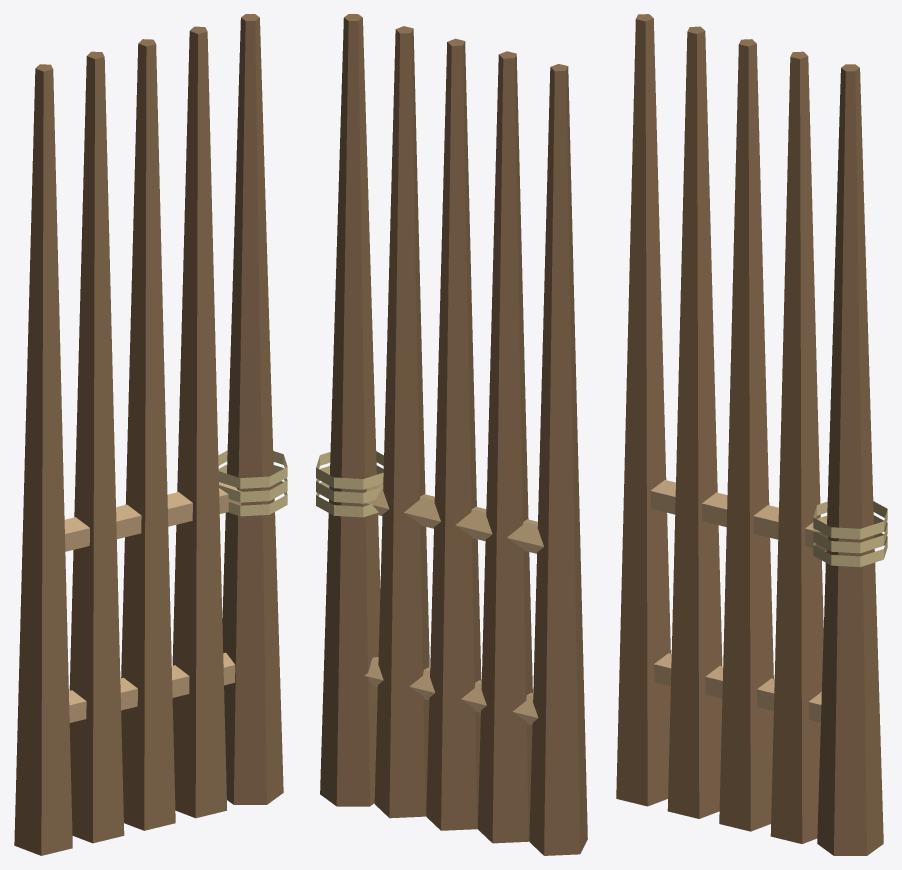
Rendered from palisade_08.glb.
3 views of the same model, side by side, from view 1: azimuth 30°, elevation 25°; view 2: azimuth 150°, elevation 25°; view 3: azimuth 330°, elevation 25° (orthographic).
Visible parts, largest first — view 1: palisade_08; view 2: palisade_08; view 3: palisade_08.
Part boxes in pixels (x1=…): palisade_08: x1=14, y1=14, x2=287, y2=855; palisade_08: x1=316, y1=14, x2=587, y2=855; palisade_08: x1=616, y1=14, x2=887, y2=855.
Size of the model in its own units: 0.6428 by 1.8 by 0.162.
